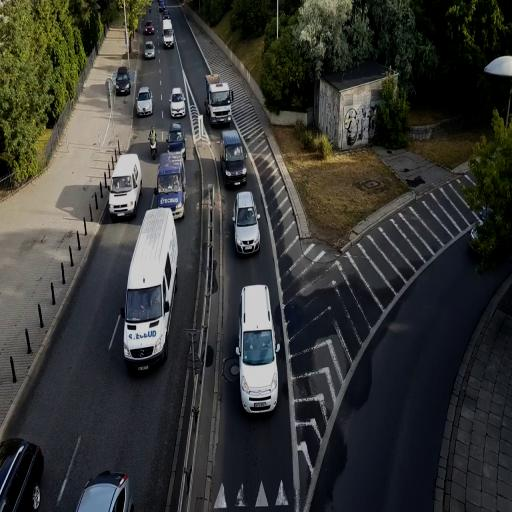vehicle: (122, 206, 180, 373), (239, 284, 279, 414), (0, 437, 44, 512), (106, 153, 142, 222), (75, 471, 132, 512), (154, 152, 186, 219), (234, 189, 261, 257), (222, 127, 248, 188), (222, 128, 247, 188), (205, 75, 233, 128), (170, 88, 186, 120), (136, 86, 152, 117), (114, 68, 131, 96), (167, 127, 185, 152), (162, 19, 174, 49), (143, 40, 155, 60)
